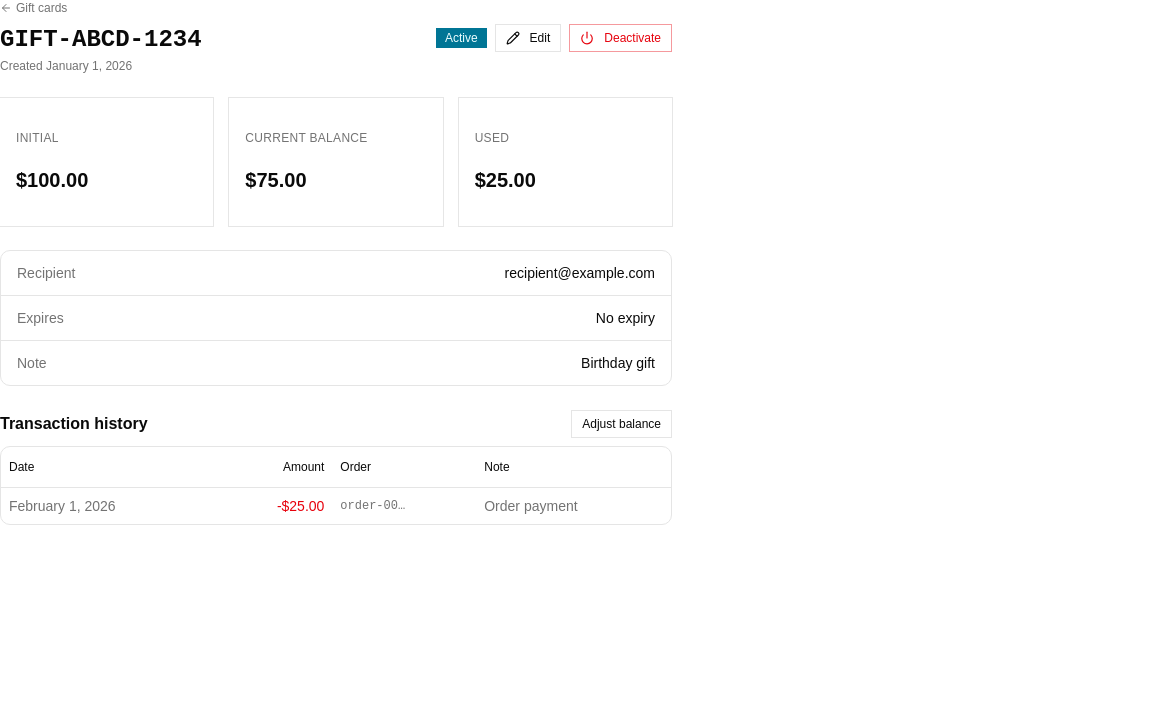
GiftCardDetailPage › Adjust balance button opens dialog with amount input
The image size is (1152, 720).
Click the button "Adjust balance" at [622, 424], box x1=571 y1=410 x2=672 y2=438
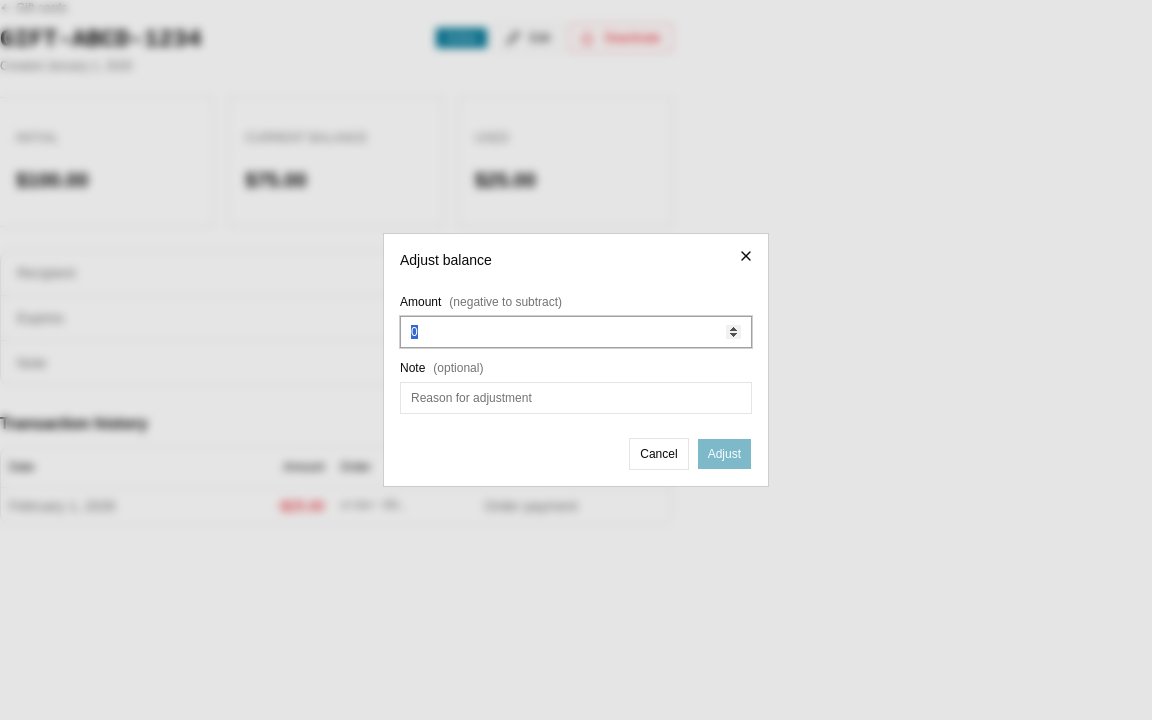
expect the dialog is shown: met, box x1=384 y1=234 x2=768 y2=486
